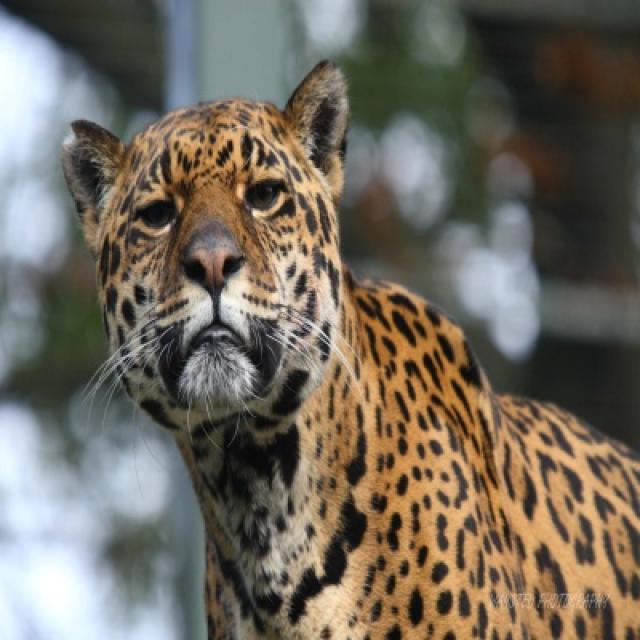Jaguar: (58, 61, 638, 638)
